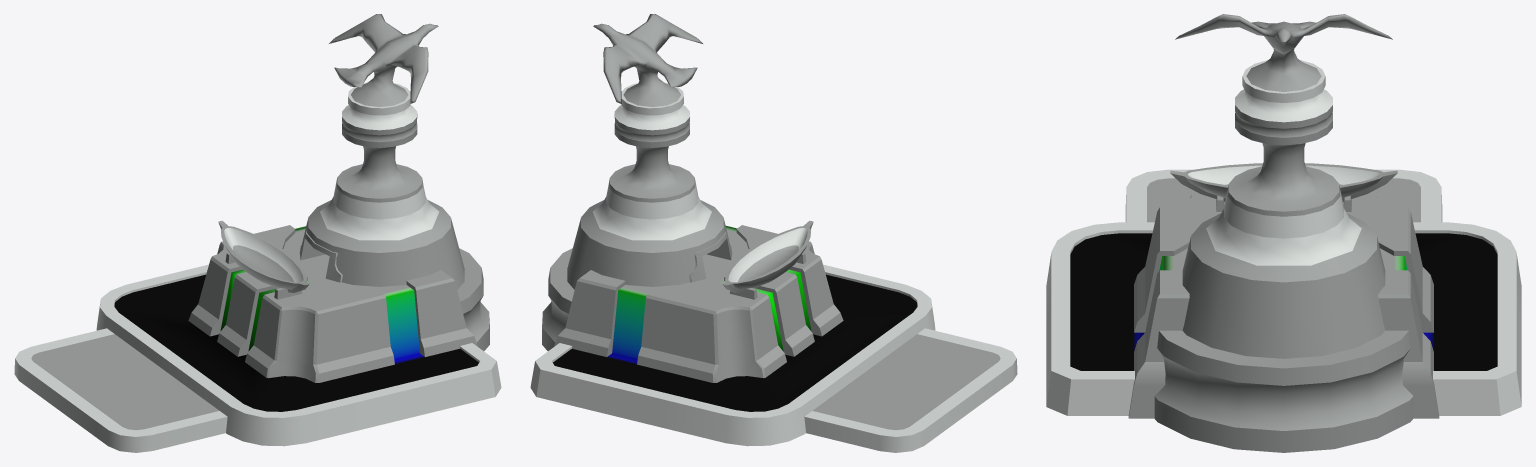
The picture shows the model from 3 angles, left to right: view 1: azimuth 30°, elevation 25°; view 2: azimuth 150°, elevation 25°; view 3: azimuth 270°, elevation 25°; orthographic projection. The views are drawn at different scales.
Visible parts, largest first — view 1: G:\FFXIV-MapTools\exports\limsa\bg\ffxiv\sea_s1\twn\common\b (×8); view 2: G:\FFXIV-MapTools\exports\limsa\bg\ffxiv\sea_s1\twn\common\b (×8); view 3: G:\FFXIV-MapTools\exports\limsa\bg\ffxiv\sea_s1\twn\common\b (×7).
Part boxes in pixels (x1,y1,x2,y2): G:\FFXIV-MapTools\exports\limsa\bg\ffxiv\sea_s1\twn\common\b (×8): (14, 14, 501, 452); G:\FFXIV-MapTools\exports\limsa\bg\ffxiv\sea_s1\twn\common\b (×8): (530, 14, 1017, 452); G:\FFXIV-MapTools\exports\limsa\bg\ffxiv\sea_s1\twn\common\b (×7): (1046, 14, 1521, 452).
Size of the model in its own units: 5.87 by 4.08 by 4.48.
